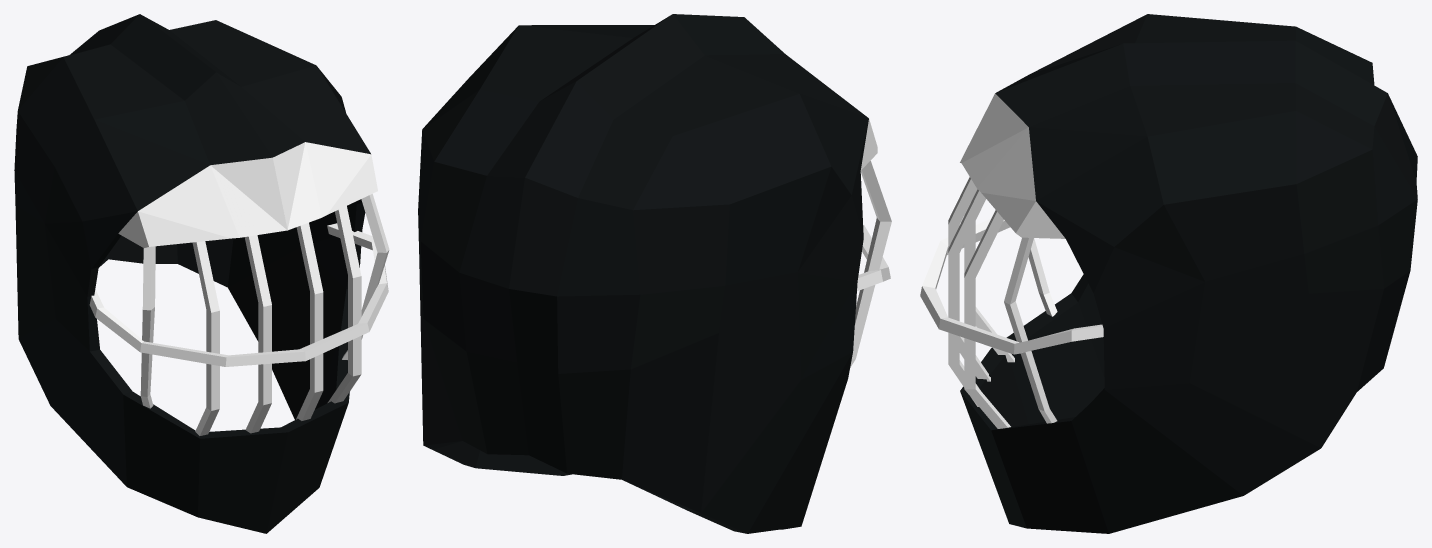
File: Goalkeeper_2_Helmet.fbx
3 views of the same model, side by side, from view 1: azimuth 30°, elevation 25°; view 2: azimuth 150°, elevation 25°; view 3: azimuth 270°, elevation 25° (orthographic). The views are drawn at different scales.
Parts seen in each view (by area): view 1: Goalkeeper_2_Helmet; view 2: Goalkeeper_2_Helmet; view 3: Goalkeeper_2_Helmet.
Boxes of the visible parts, box(x1,y1,x2,y2) form: Goalkeeper_2_Helmet: box(14, 14, 389, 533); Goalkeeper_2_Helmet: box(418, 14, 891, 533); Goalkeeper_2_Helmet: box(920, 14, 1417, 533).
Bounding box in the file's own units: 25.3 × 35.97 × 33.57.
